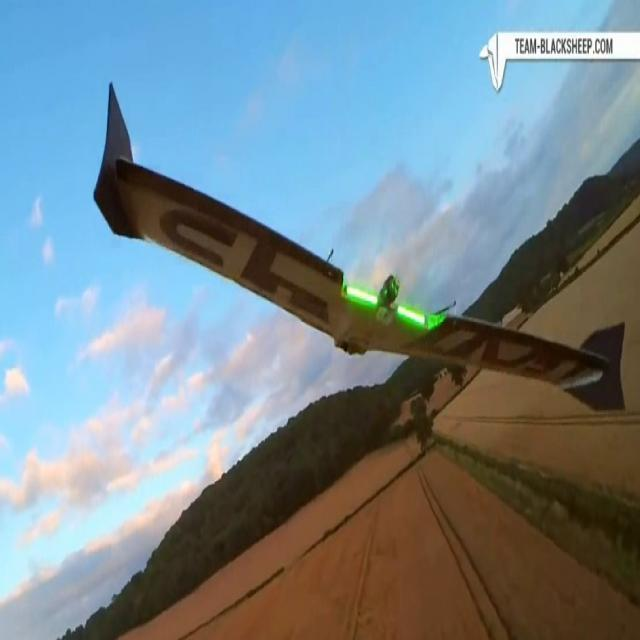iha: (64, 78, 633, 419)
